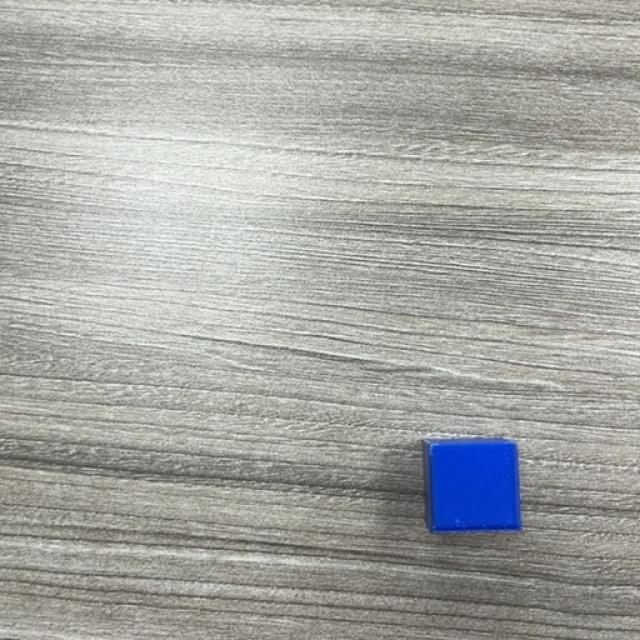Azul: (420, 440, 522, 535)
